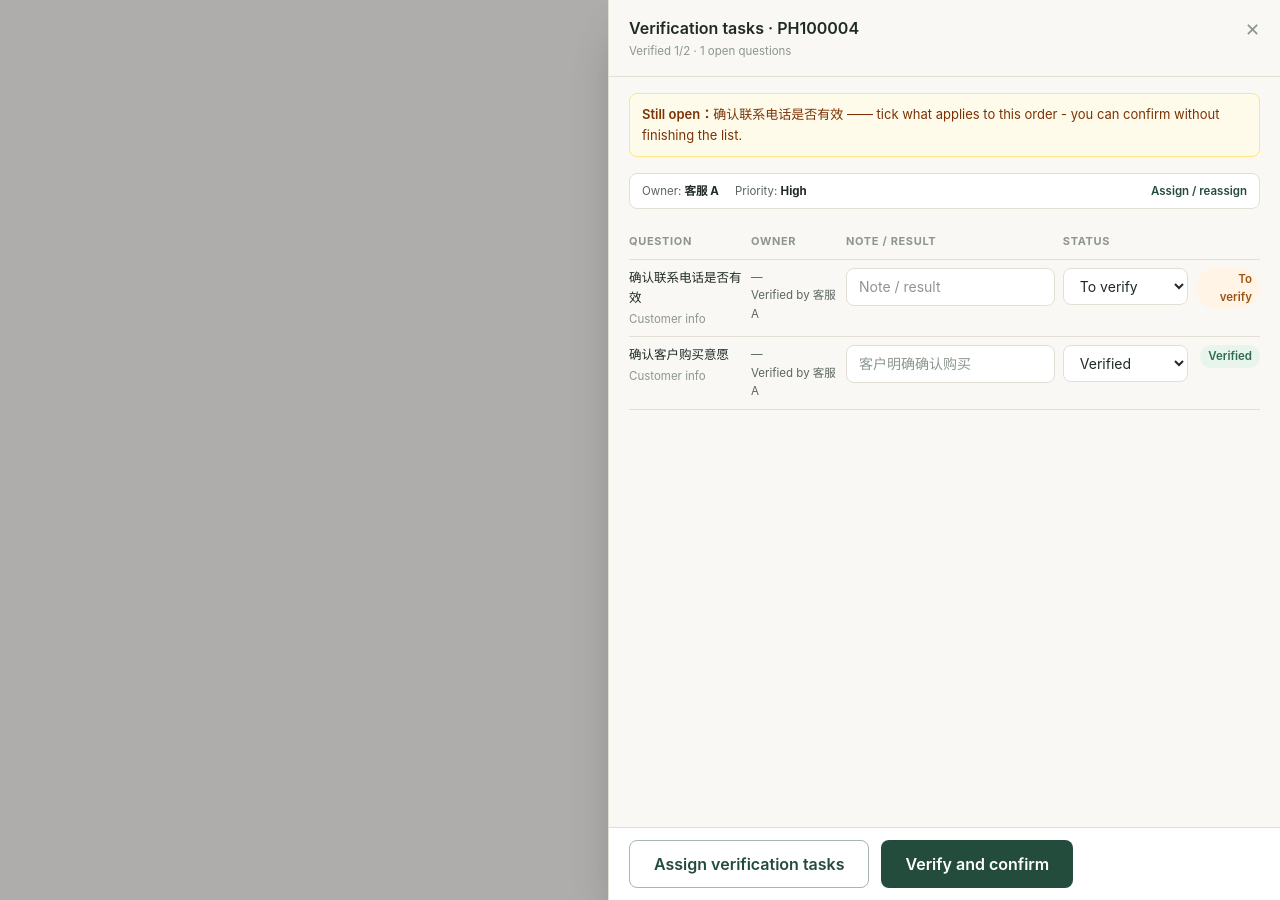
Test case: the verification drawer › refuses a pass without a result
This screenshot has width=1280, height=900.
Select "Verified" in the dropdown named "确认联系电话是否有效 Status". click: {"x": 1125, "y": 286}
box: [1063, 268, 1188, 305]
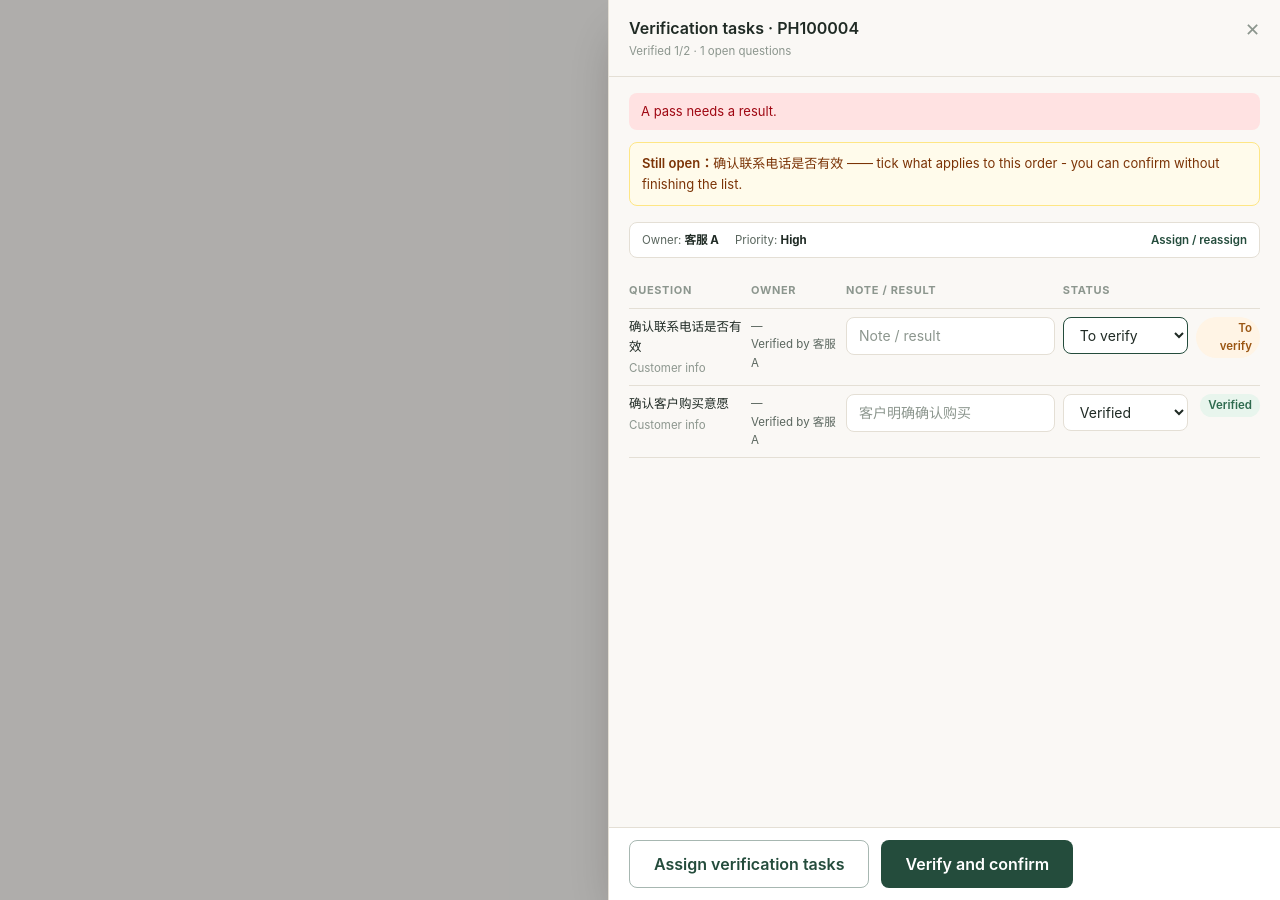
Check: the text "A pass needs a result." is shown, box [629, 93, 1260, 130]
